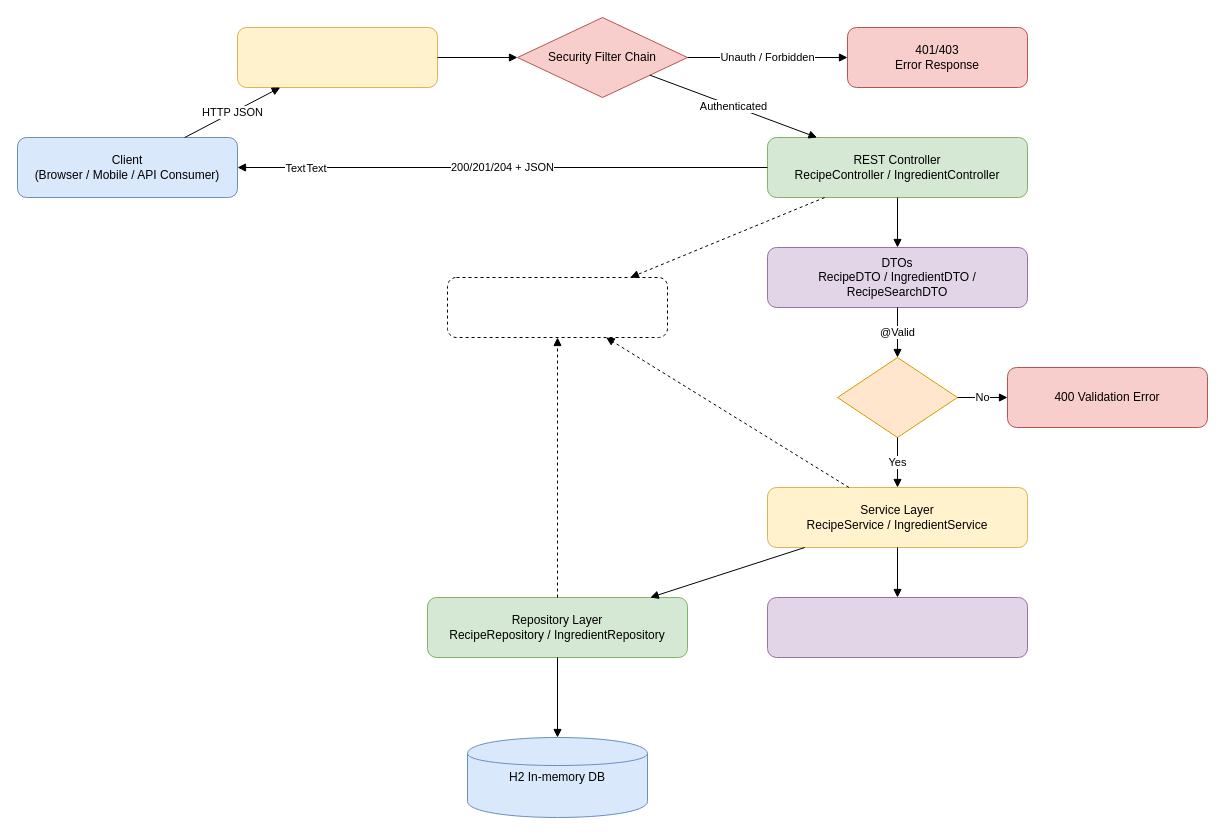
The diagram is 1225 pixels wide and 835 high, and some of its shapes have lost their labels. Each missing label, with the box of its shape:
Global Exception Handler @ControllerAdvice: (446, 276, 668, 338)
Mapper Layer RecipeMapper / IngredientMapper: (766, 596, 1028, 658)
Spring MVC DispatcherServlet: (236, 26, 438, 88)
Valid?: (836, 356, 958, 438)
